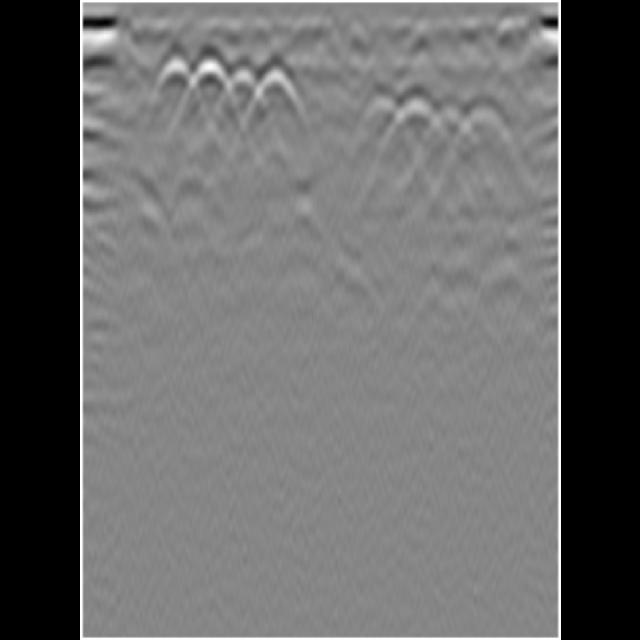hyperbola: (462, 102, 514, 160), (354, 96, 404, 154), (150, 50, 200, 108), (423, 102, 475, 154), (396, 93, 442, 149), (216, 66, 268, 114), (253, 64, 299, 116), (187, 56, 233, 106)
